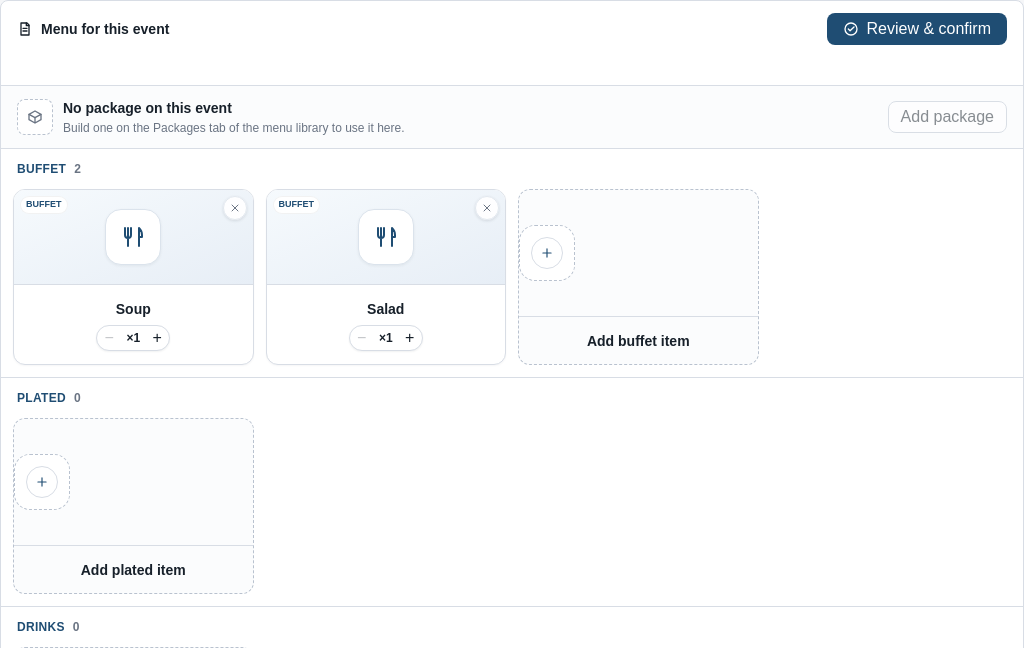
Test case: event menu tab loading › puts the rows back when a save is refused
The image size is (1024, 648).
Click the button named "Remove Soup" at (234, 208), box [222, 196, 246, 220]
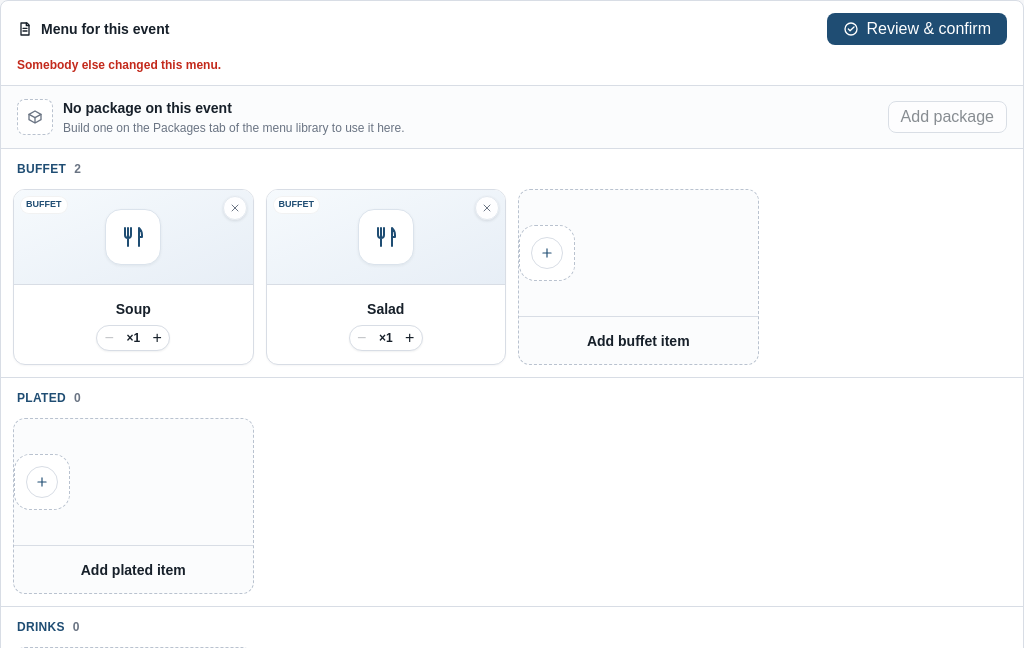
expect the message reads "Somebody else changed this menu.": met, box [17, 58, 221, 72]
